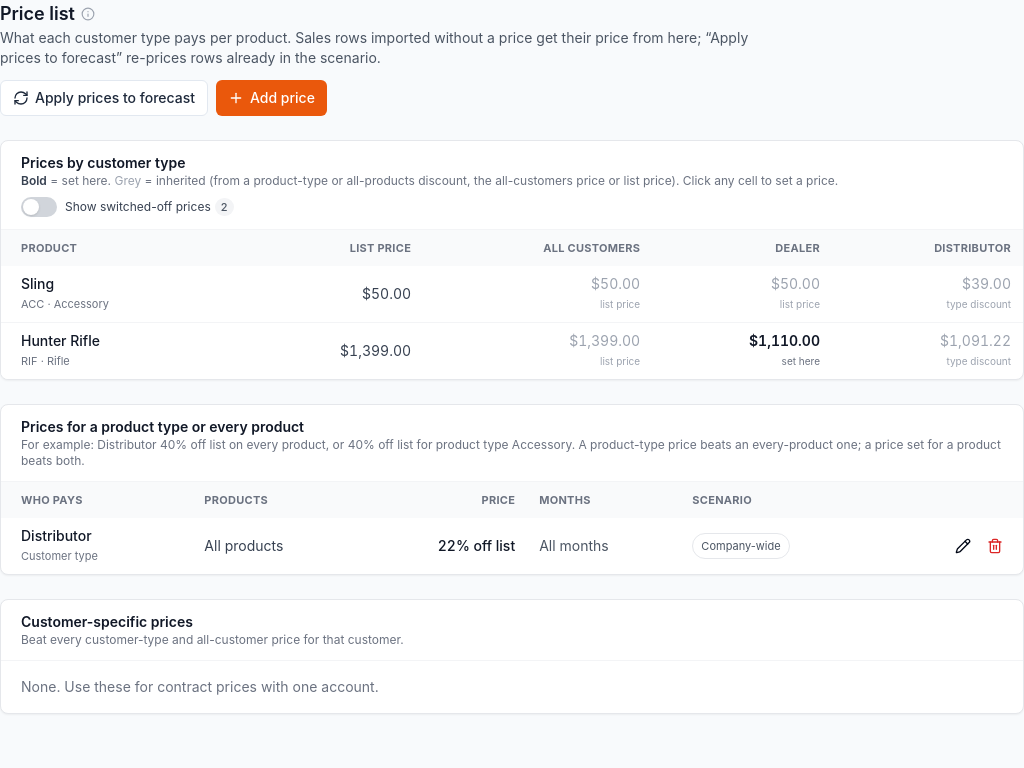
Test: PriceListTab › deletes a customer-type price from the cell editor after a confirm
Step 1. Click the button titled "$1,110.00. Click to edit." → (742, 351), box left=656, top=327, right=828, bottom=375
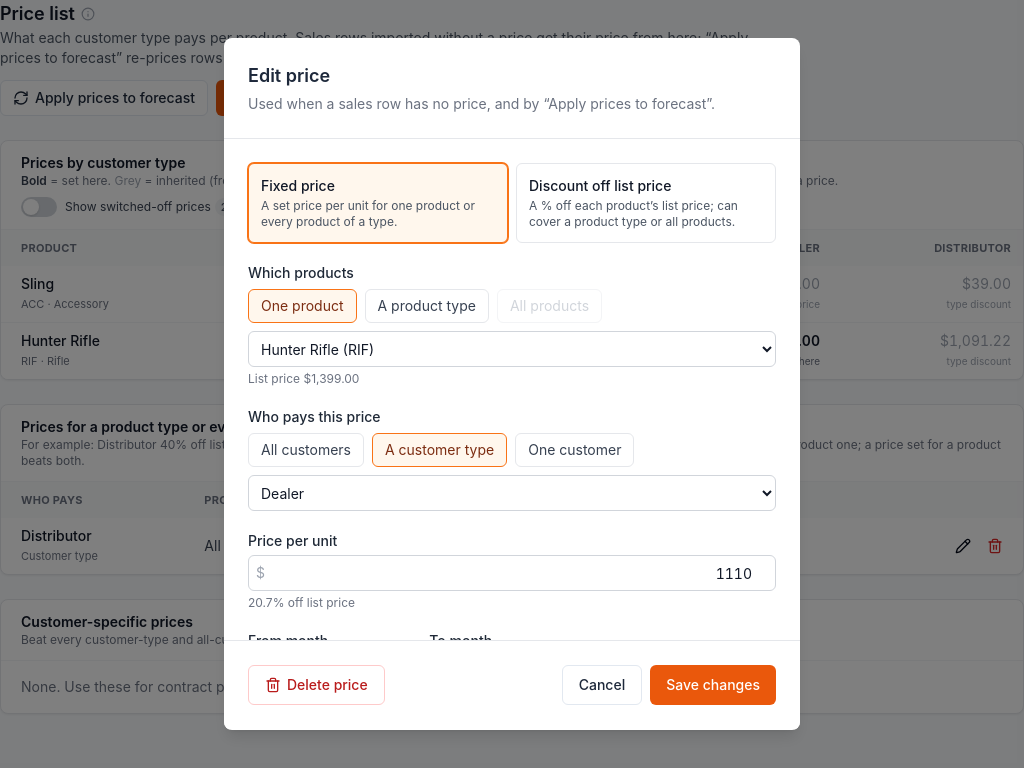
Step 2. Click the button "Delete price" → (316, 686), box left=248, top=666, right=385, bottom=706
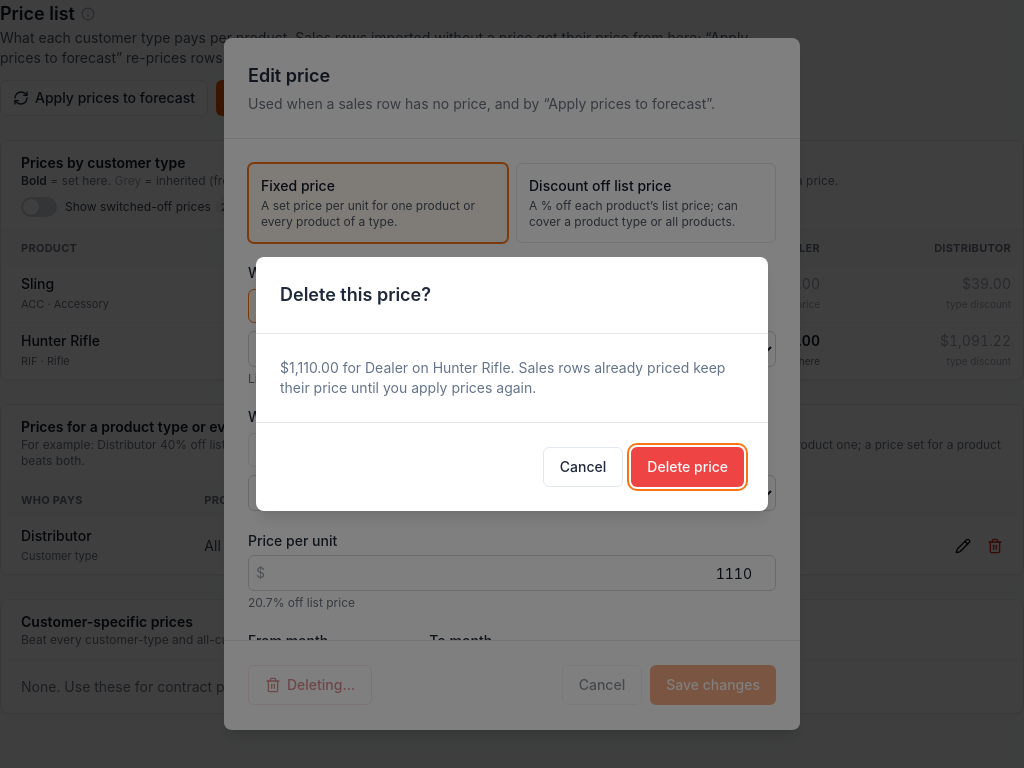
Expected: the text "Delete this price?" shows "$1,110.00 for Dealer on Hunter Rifle", left=280, top=359, right=725, bottom=396
Step 3. Click the button "Delete price" → (688, 467), box left=631, top=447, right=744, bottom=487
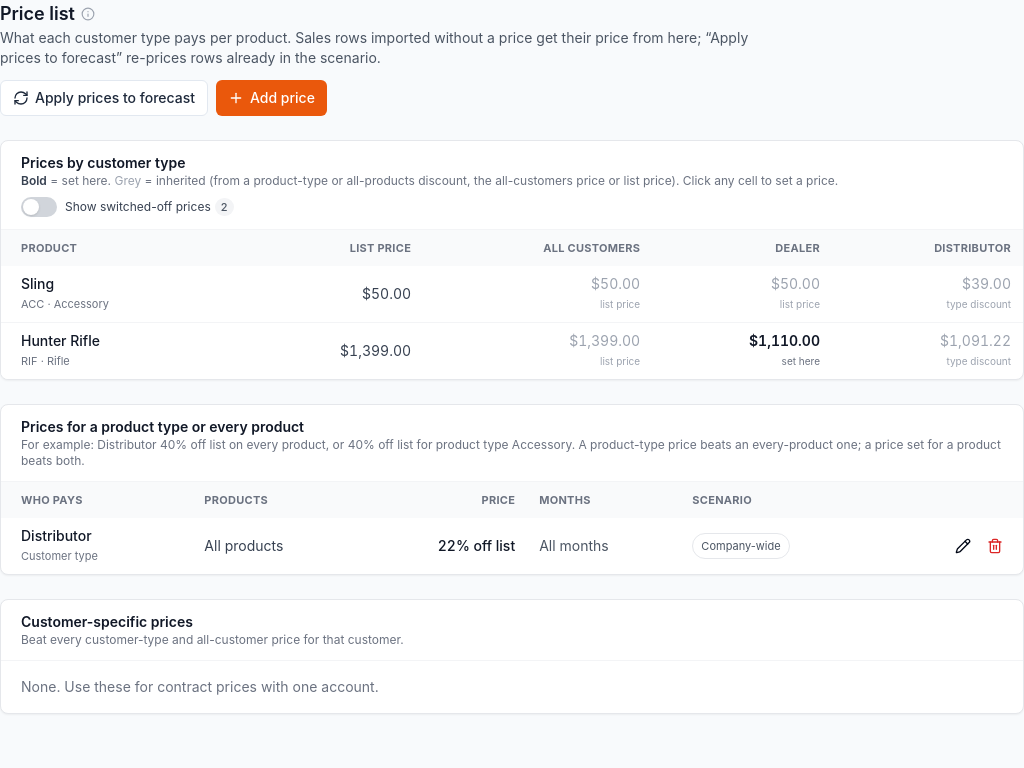
Expected: the heading "Edit price" is gone
